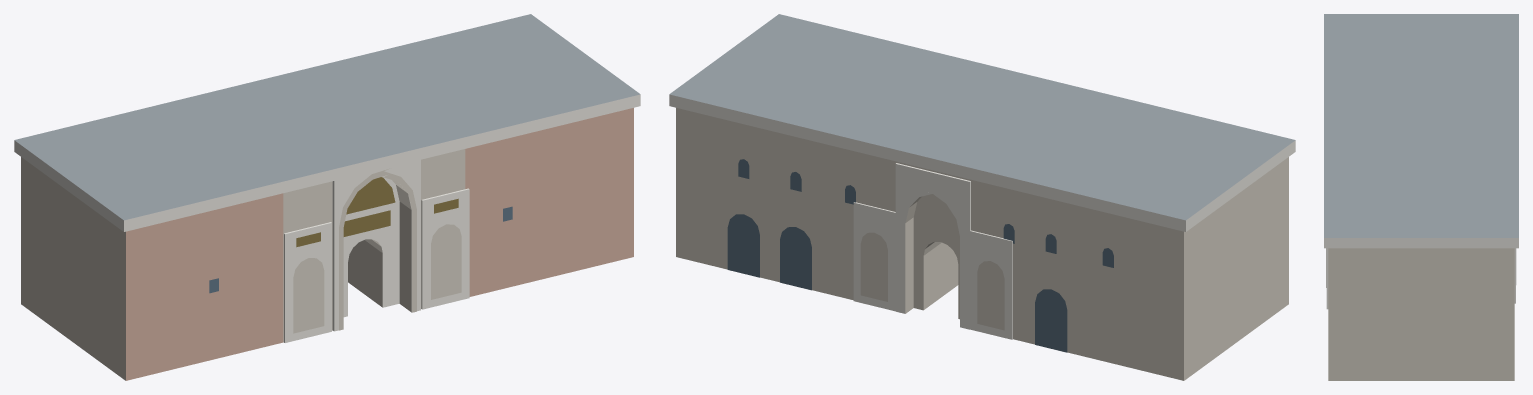
The model's file is istanbul-topkapi-imperial-gate.glb.
The picture shows the model from 3 angles, left to right: view 1: azimuth 30°, elevation 25°; view 2: azimuth 150°, elevation 25°; view 3: azimuth 270°, elevation 25°; orthographic projection. The views are drawn at different scales.
Parts seen in each view (by area): view 1: Imperial Gate; view 2: Imperial Gate; view 3: Imperial Gate.
Part boxes in pixels (x1,y1,x2,y2): Imperial Gate: [14, 14, 640, 380]; Imperial Gate: [669, 14, 1295, 380]; Imperial Gate: [1324, 14, 1518, 380].
Size of the model in its own units: 41.7 by 12.6 by 15.35.
